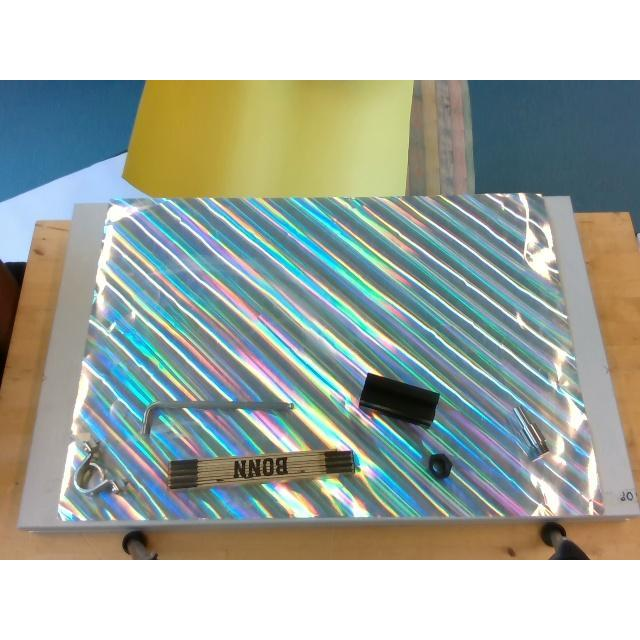AllenKey: (141, 398, 293, 438)
Axis2: (513, 405, 549, 459)
Housing: (72, 441, 120, 493)
M20: (426, 452, 454, 480)
S40_40_B: (359, 373, 439, 427)
